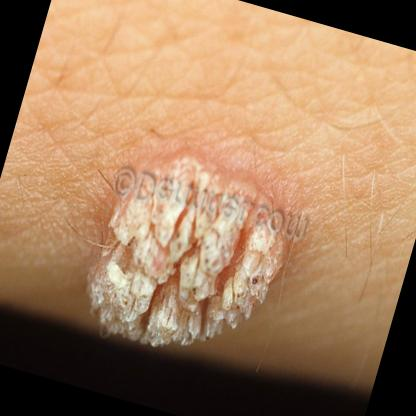Warts: (68, 192, 300, 393)
